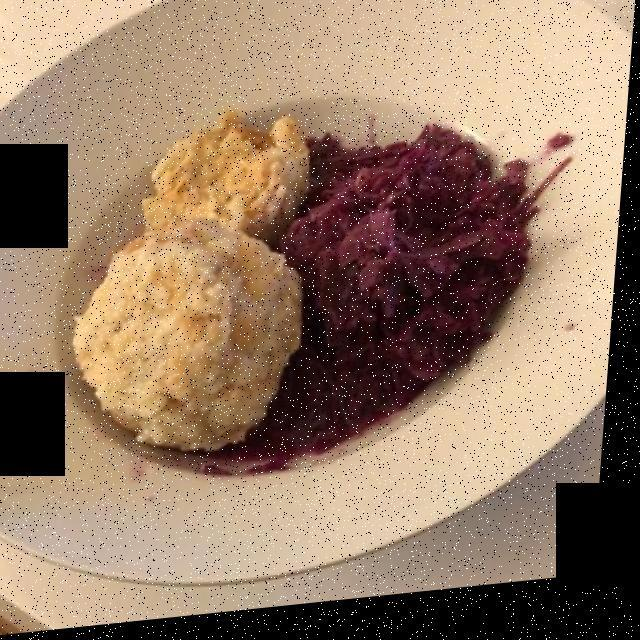dumplings: (79, 231, 303, 451)
egg: (148, 125, 306, 244)
